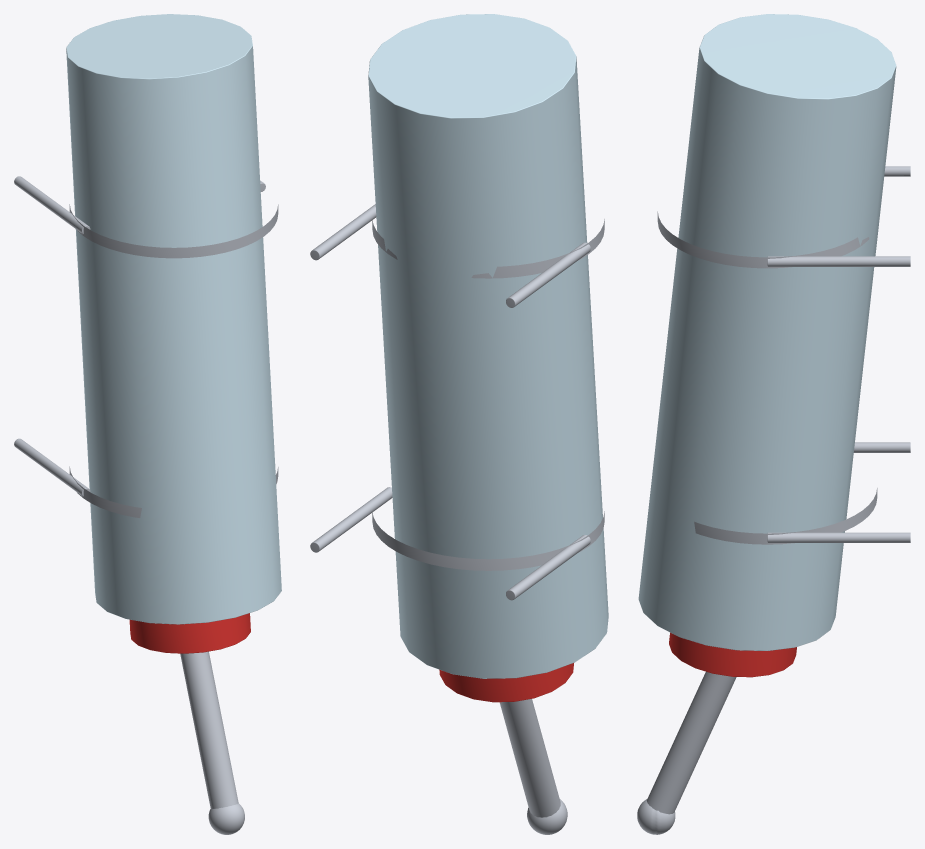
Rendered from water_bottle.glb.
3 renders of one model, left to right at view 1: azimuth 30°, elevation 25°; view 2: azimuth 150°, elevation 25°; view 3: azimuth 270°, elevation 25°, orthographic. The views are drawn at different scales.
Visible parts, largest first — view 1: water_bottle.001; view 2: water_bottle.001; view 3: water_bottle.001.
Boxes of the visible parts, bbox=[...] form: water_bottle.001: bbox=[14, 14, 281, 834]; water_bottle.001: bbox=[310, 14, 608, 834]; water_bottle.001: bbox=[637, 14, 910, 834].
Bounding box in the file's own units: 14.7 × 56.88 × 17.95.
